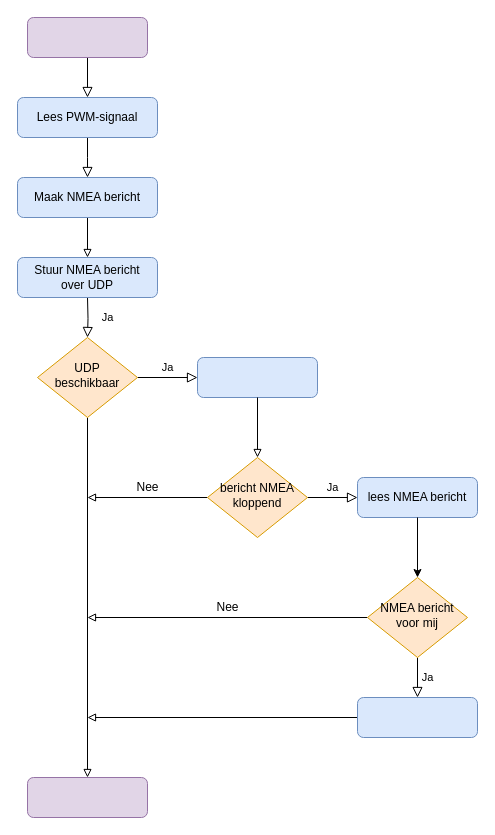
This 495x835 diagram has some shape labels left out. The shapes that lost their labels are listed below. From the top down, each one's centre as x and y in pixels, then its label:
the point at 87,37: begin
the point at 257,377: Lees UDP
the point at 417,717: verwerkt opdracht uit bericht
the point at 87,797: Terug naar begin
